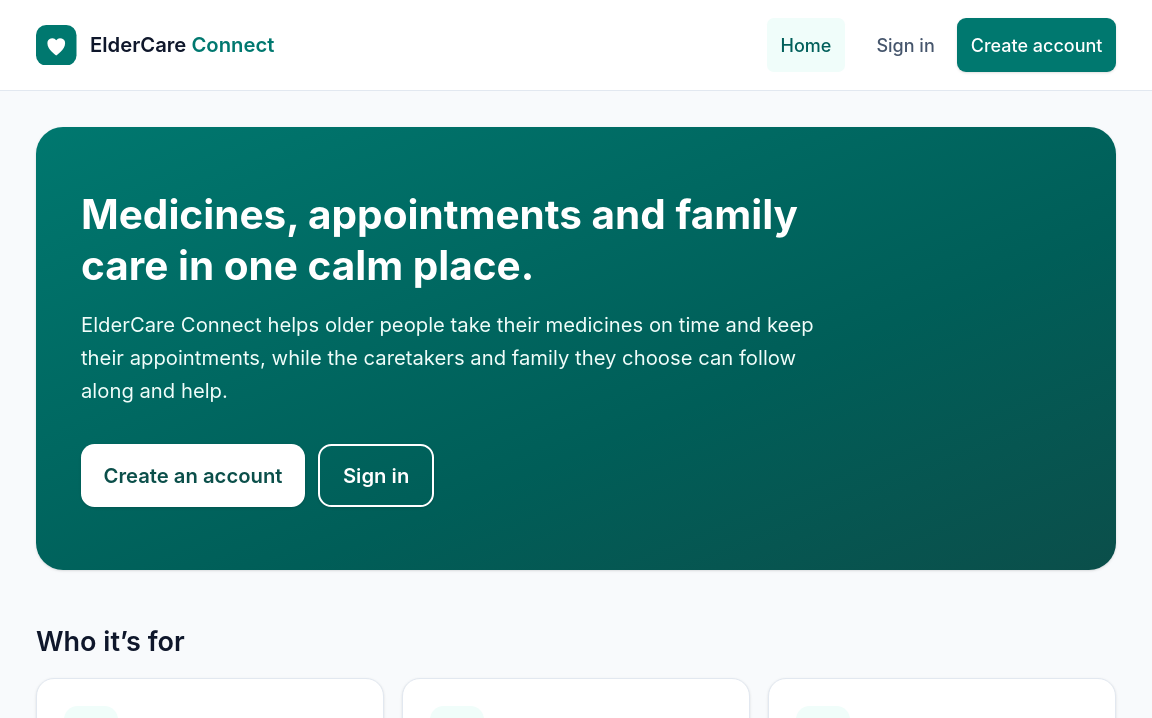
Test: route titles and focus management › sets the document title and moves focus to the main region after navigation
The width and height of the screenshot is (1152, 718).
Expected: the heading "Medicines, appointments and family care in one calm place." is shown, [81,190,837,291]
Click the link "Create an account" at coordinates (193, 476), box [81,444,305,507]
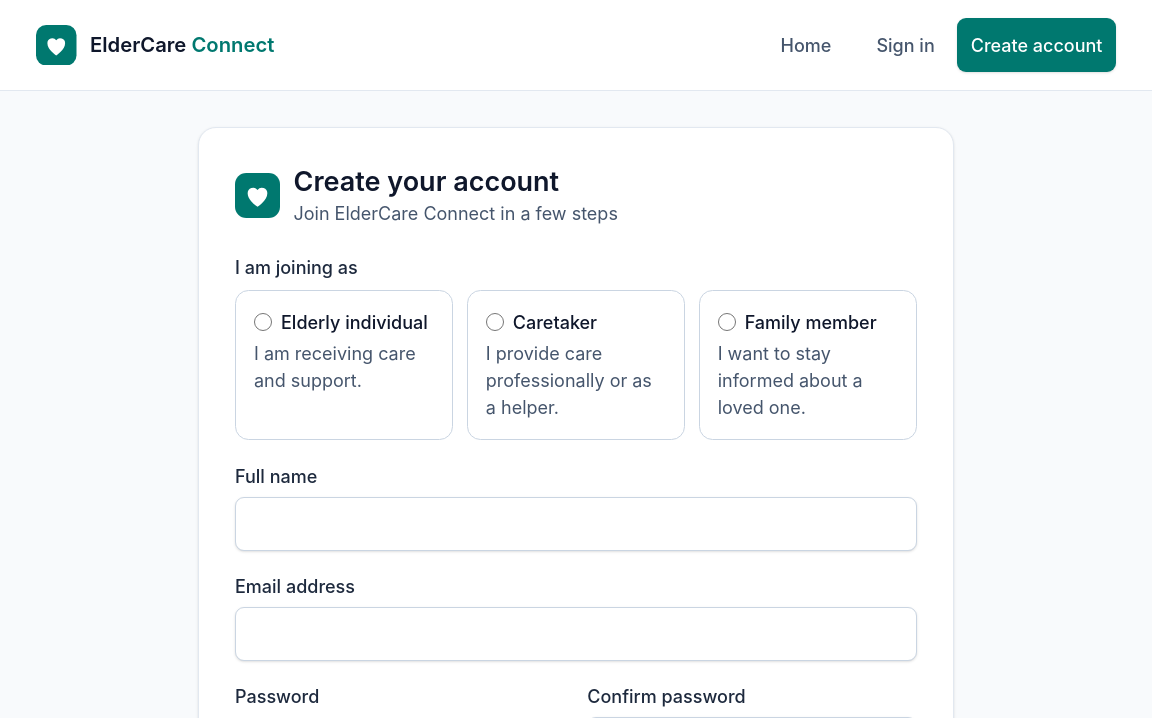
Expected: the heading "Create your account" is shown, [294,165,559,198]
